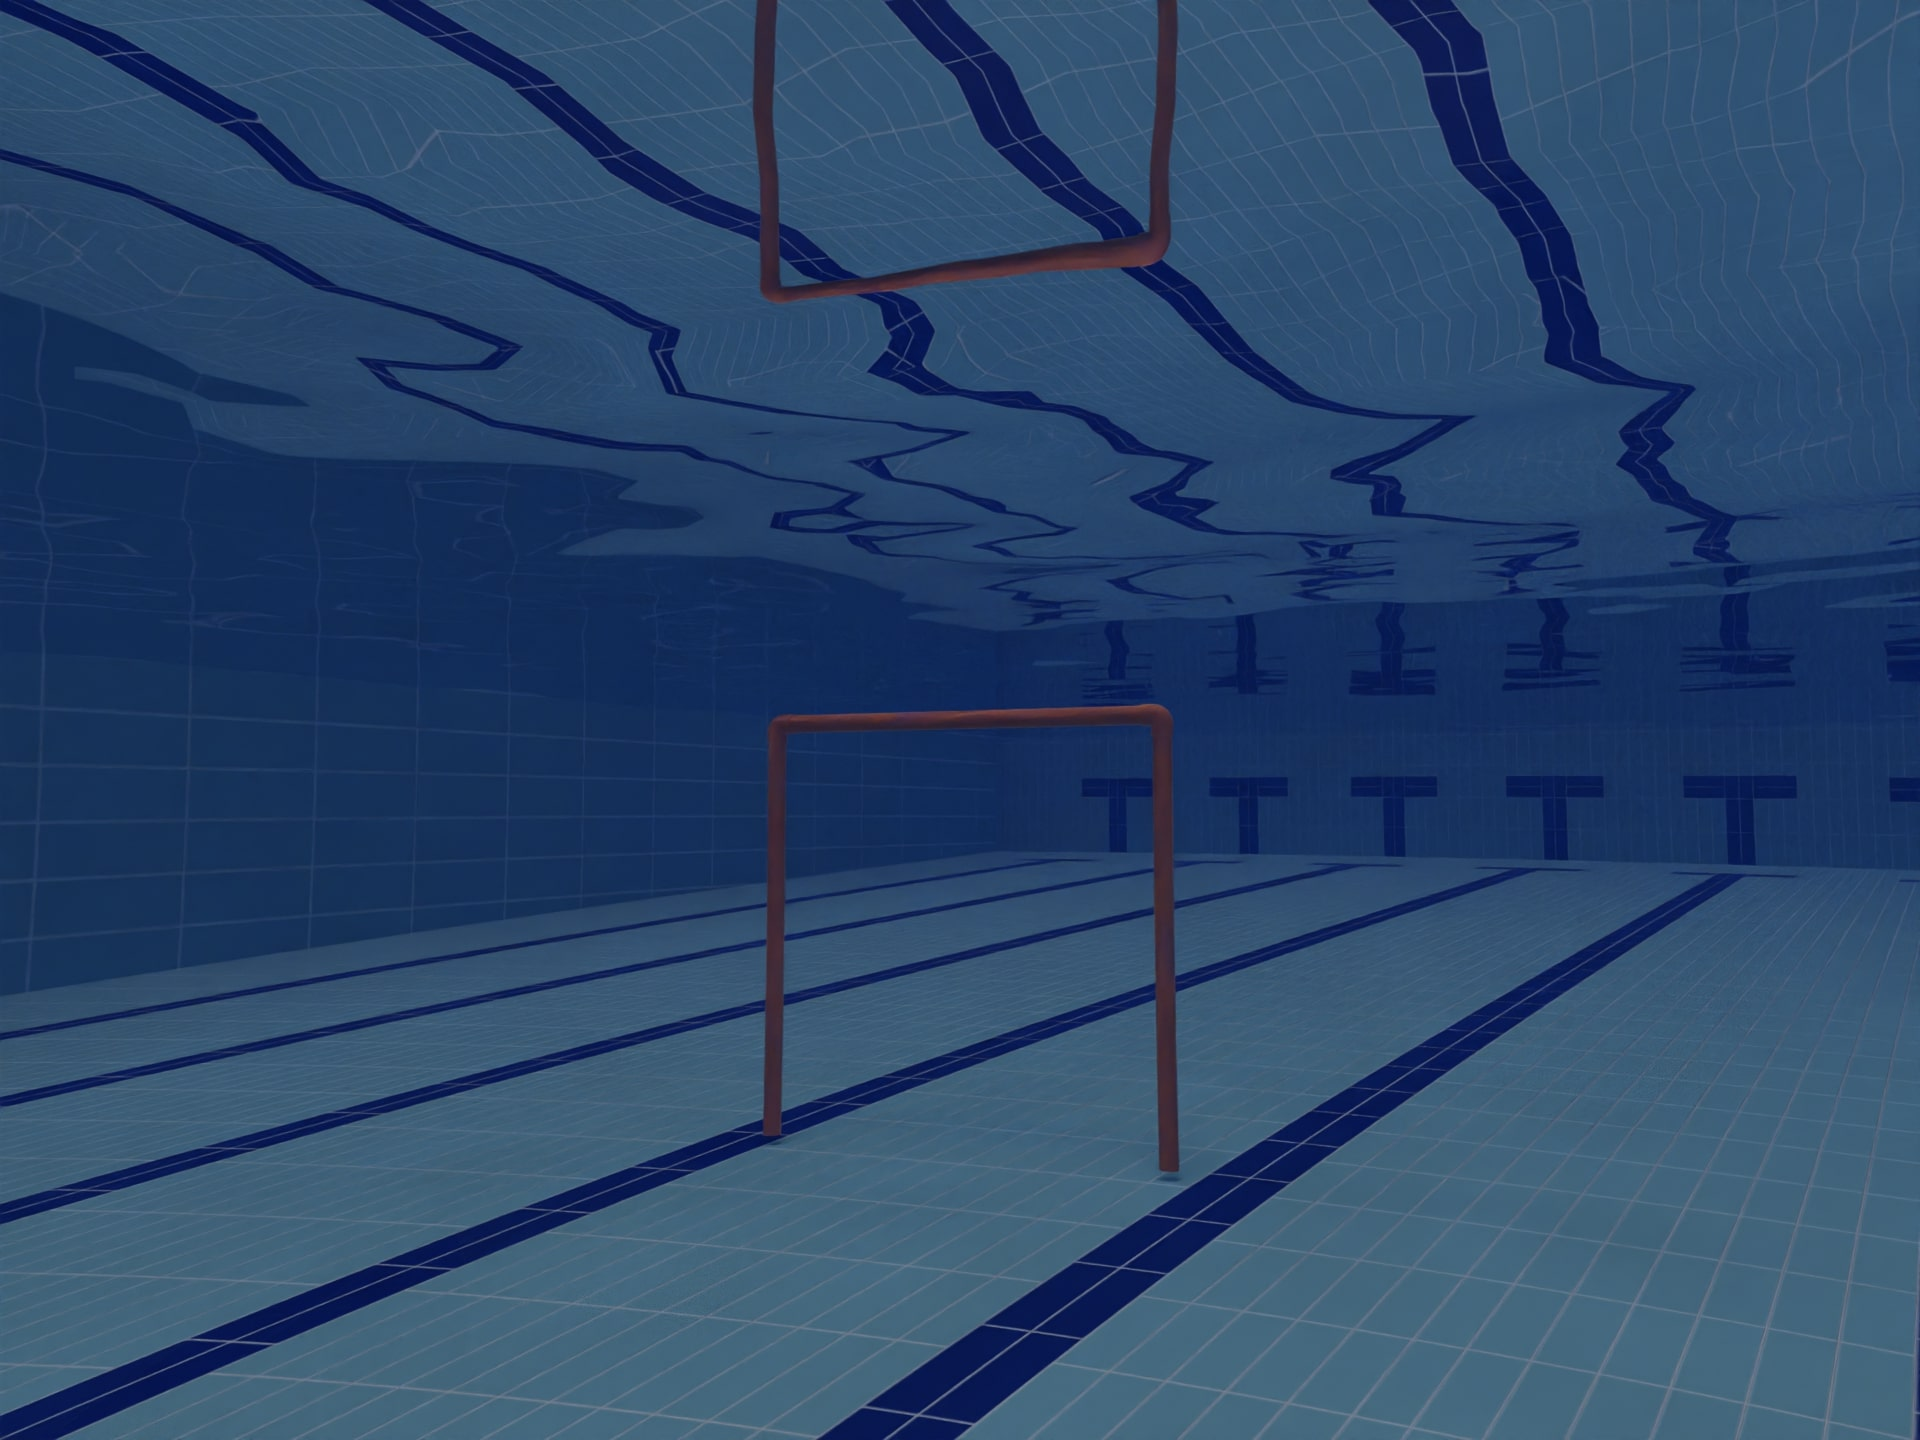gate: (738, 685, 1273, 1233)
